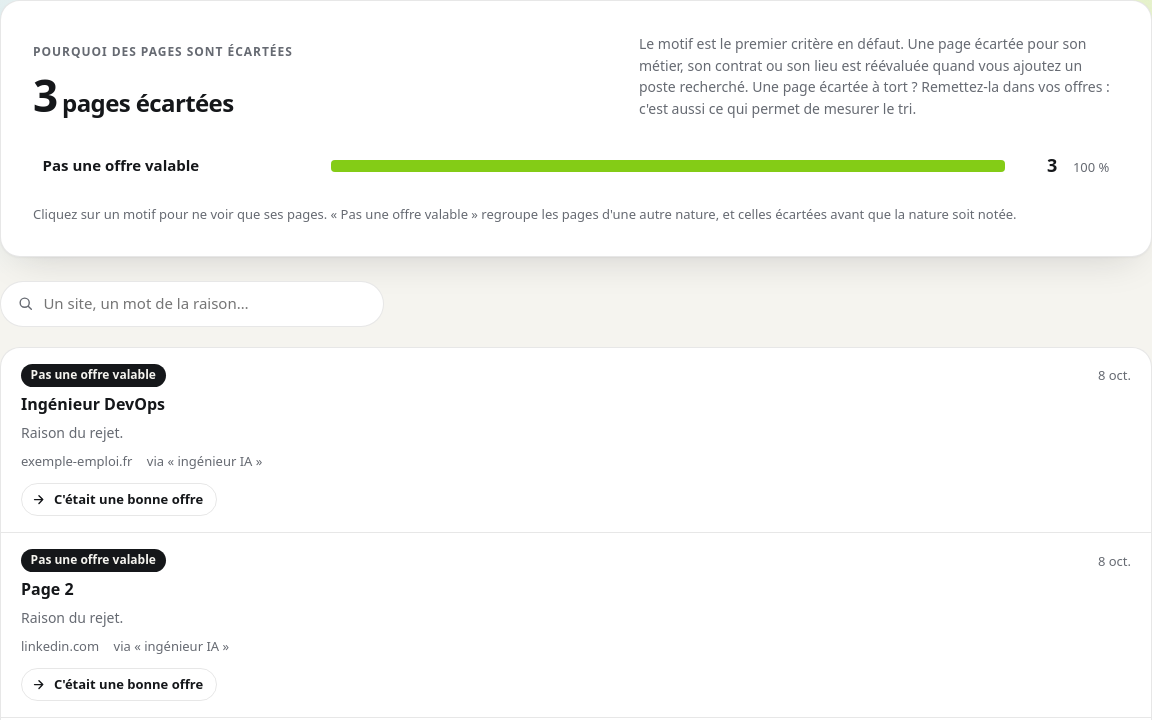
Test: RejectedComponent › should search in titles, addresses and reasons, ignoring accents and case
Type "ingenieur" into the search field named "search". click: (205, 304)
box: [43,282,367,326]
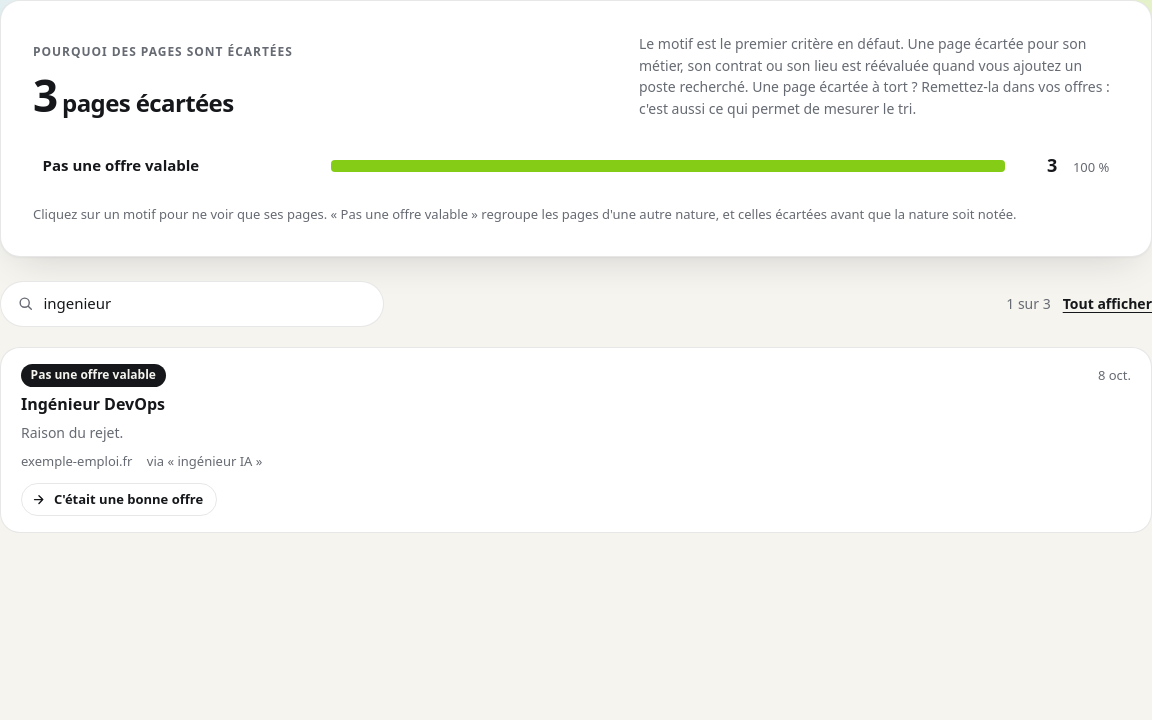
Replace the text in the search field named "search" with "LinkedIn". click: (205, 304)
box: [43,282,367,326]
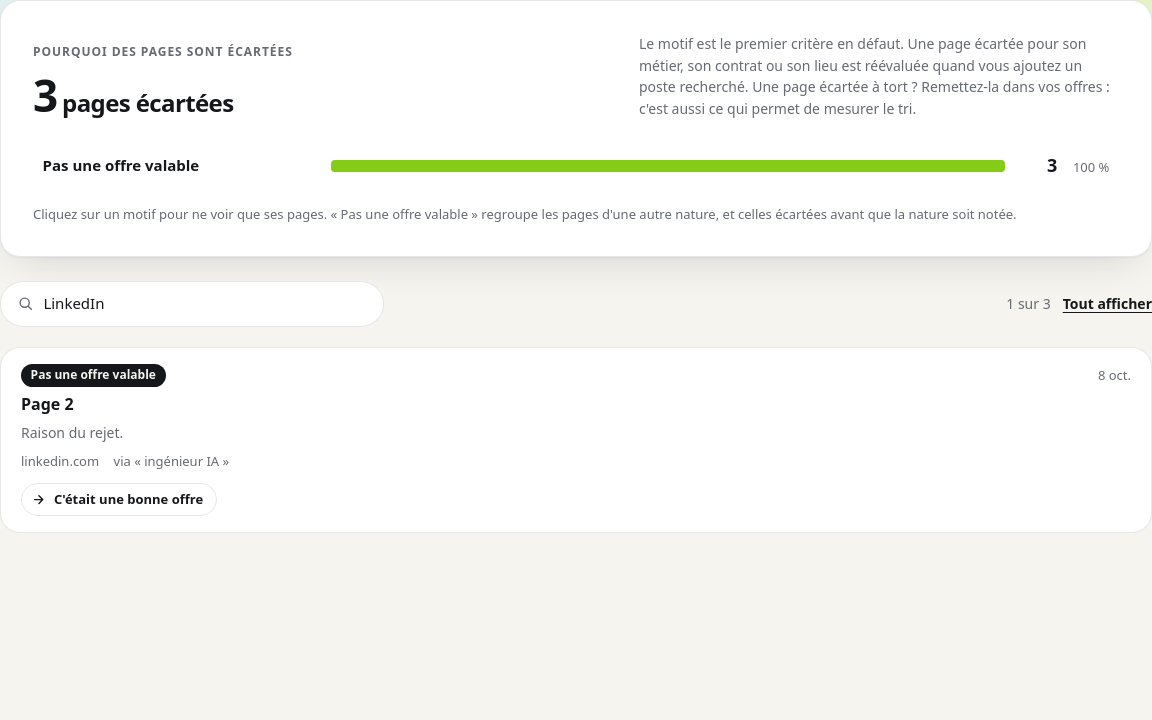
Replace the text in the search field named "search" with "expiree". click: (205, 304)
box: [43,282,367,326]
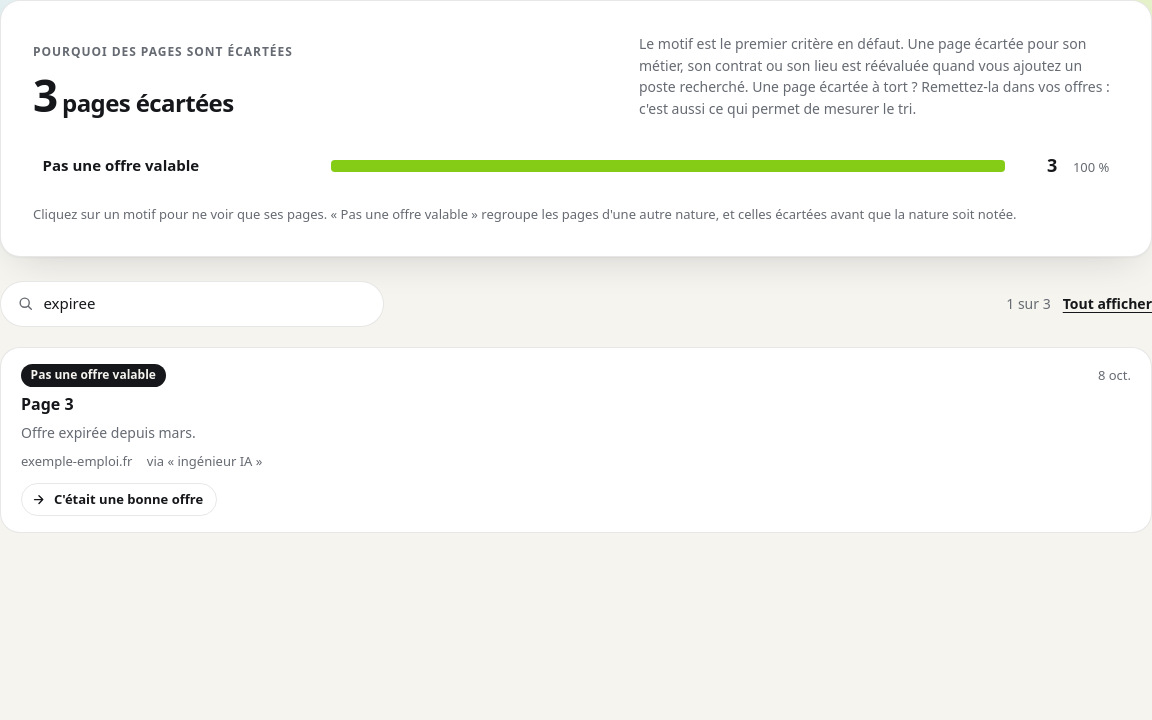
Replace the text in the search field named "search" with "introuvable". click: (205, 304)
box: [43,282,367,326]
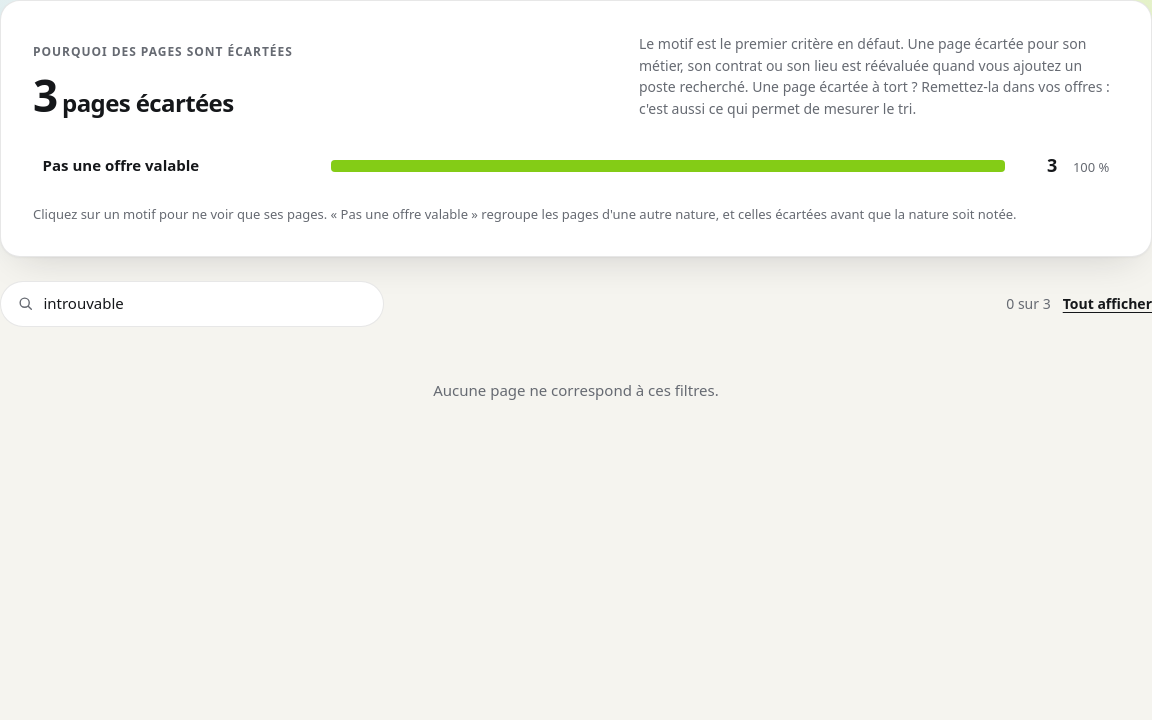
expect the text "Aucune page ne correspond à ces filtres." is shown: met, box [433,380,719,400]
